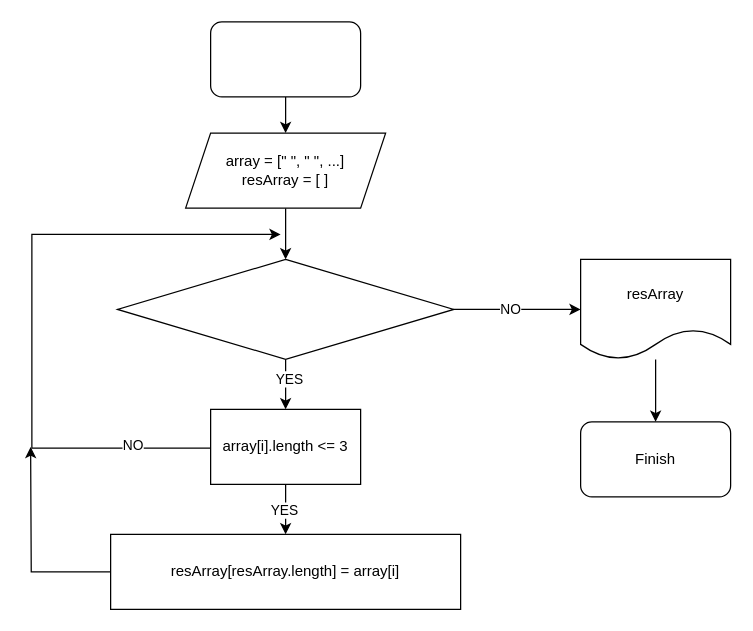
The diagram is 753 pixels wide and 631 high, and some of its shapes have lost their labels. Here are the shapes that lost their labels. From the top down, the box of each, then its label:
(209, 21, 361, 97): Start
(116, 258, 454, 359): for(int i = 0, i < array.length, i++)
